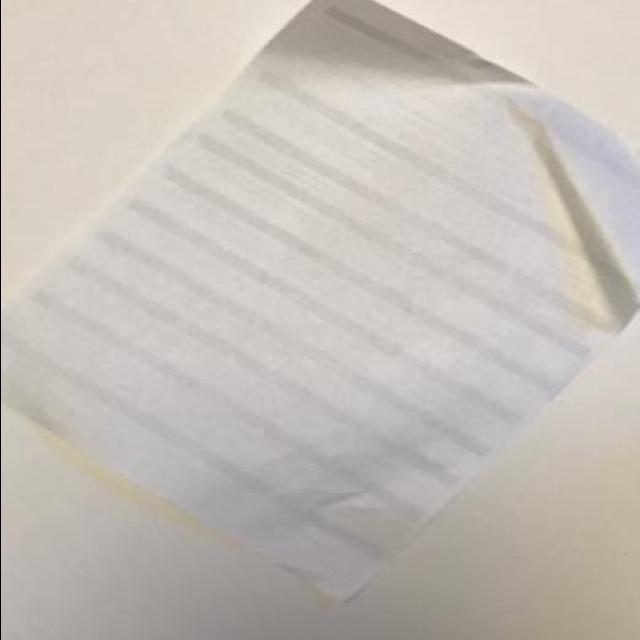kertas: (0, 0, 640, 612)
